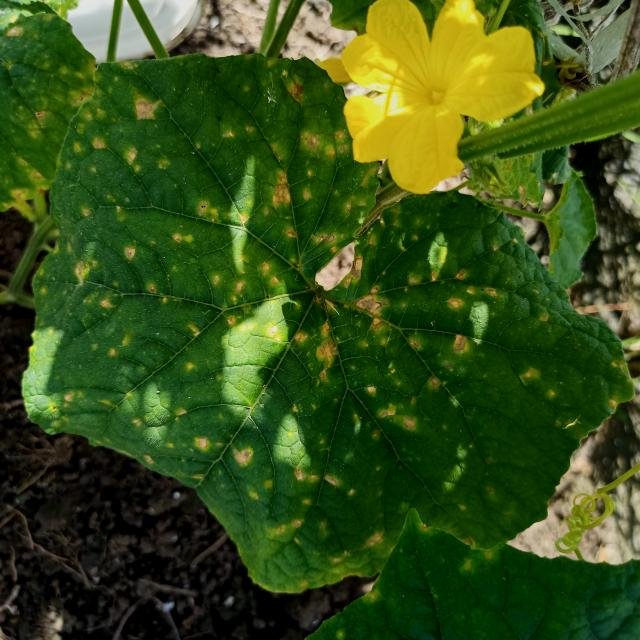disease_cucumber: (42, 68, 590, 583)
